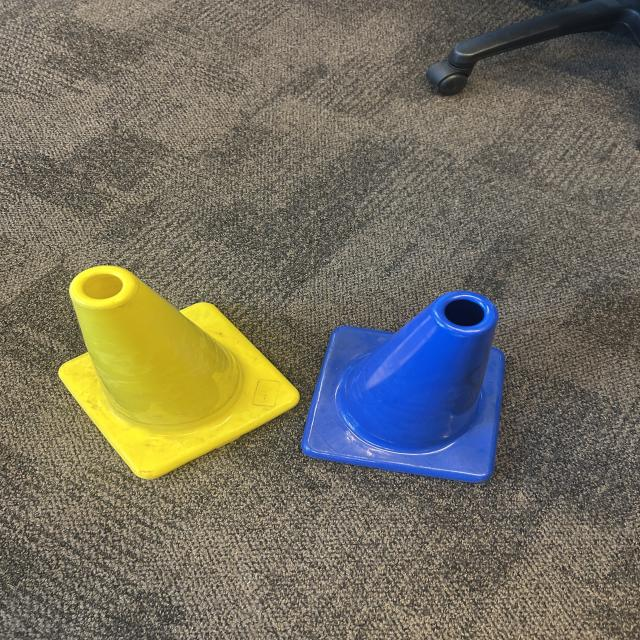blue_cone: (304, 292, 504, 481)
yellow_cone: (58, 266, 299, 478)
